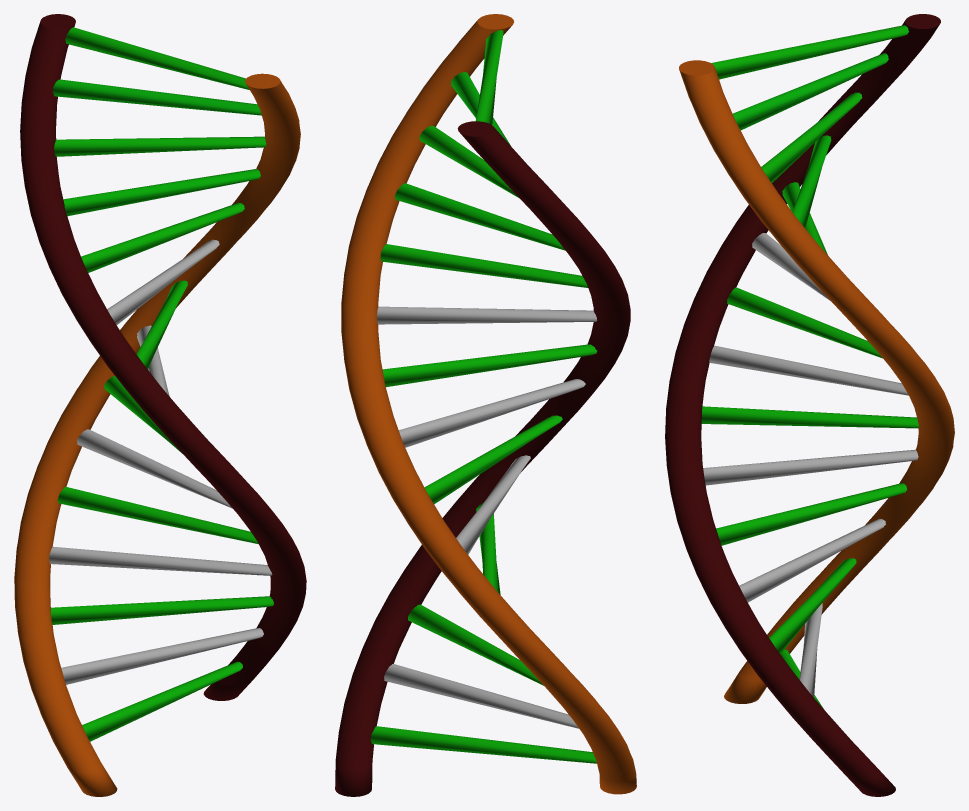
Rendered from dna_broken.mtl.obj.
3 views of the same model, side by side, from view 1: azimuth 30°, elevation 25°; view 2: azimuth 150°, elevation 25°; view 3: azimuth 270°, elevation 25° (orthographic). The views are drawn at different scales.
Visible parts, largest first — view 1: Cylinder_0, Cylinder_1_1, Cylinder_11, Cylinder_1_12, Cylinder_1_2, Cylinder_1, Cylinder_13, Cylinder_1_10, Cylinder_3, Cylinder_1_0, Cylinder_1_14, Cylinder_1_4 (+5 smaller); view 2: Cylinder_1_1, Cylinder_0, Cylinder_1_14, Cylinder_5, Cylinder_1_6, Cylinder_1_4, Cylinder_13, Cylinder_7, Cylinder_3, Cylinder_1_8, Cylinder_1_12, Cylinder_9 (+4 smaller); view 3: Cylinder_0, Cylinder_1_1, Cylinder_1_8, Cylinder_9, Cylinder_7, Cylinder_1_0, Cylinder_1_10, Cylinder_1, Cylinder_1_6, Cylinder_11, Cylinder_1_2, Cylinder_1_12 (+4 smaller).
Boxes of the visible parts, bbox=[...] form: Cylinder_0: bbox=[20, 14, 306, 700]; Cylinder_1_1: bbox=[14, 73, 300, 796]; Cylinder_11: bbox=[49, 546, 272, 575]; Cylinder_1_12: bbox=[51, 596, 273, 624]; Cylinder_1_2: bbox=[54, 136, 266, 156]; Cylinder_1: bbox=[52, 79, 261, 115]; Cylinder_13: bbox=[61, 628, 263, 684]; Cylinder_1_10: bbox=[57, 487, 258, 543]; Cylinder_3: bbox=[63, 169, 260, 216]; Cylinder_1_0: bbox=[65, 27, 249, 89]; Cylinder_1_14: bbox=[82, 661, 242, 741]; Cylinder_1_4: bbox=[81, 202, 244, 272]; Cylinder_1_1: bbox=[341, 14, 636, 794]; Cylinder_0: bbox=[335, 121, 630, 796]; Cylinder_1_14: bbox=[370, 726, 596, 763]; Cylinder_5: bbox=[376, 306, 597, 324]; Cylinder_1_6: bbox=[382, 344, 597, 386]; Cylinder_1_4: bbox=[380, 244, 588, 287]; Cylinder_13: bbox=[384, 664, 578, 728]; Cylinder_7: bbox=[399, 379, 585, 447]; Cylinder_3: bbox=[395, 183, 565, 250]; Cylinder_1_8: bbox=[424, 415, 562, 504]; Cylinder_1_12: bbox=[408, 604, 543, 685]; Cylinder_9: bbox=[456, 455, 530, 554]; Cylinder_0: bbox=[665, 14, 940, 796]; Cylinder_1_1: bbox=[679, 60, 954, 703]; Cylinder_1_8: bbox=[701, 406, 918, 428]; Cylinder_9: bbox=[703, 449, 918, 485]; Cylinder_7: bbox=[709, 345, 908, 395]; Cylinder_1_0: bbox=[711, 25, 908, 79]; Cylinder_1_10: bbox=[716, 483, 907, 545]; Cylinder_1: bbox=[733, 53, 888, 130]; Cylinder_1_6: bbox=[727, 287, 882, 358]; Cylinder_11: bbox=[739, 518, 885, 602]; Cylinder_1_2: bbox=[761, 92, 862, 182]; Cylinder_1_12: bbox=[769, 558, 856, 653].
Bounding box in the file's own units: 1.2 × 3.12 × 1.17.
